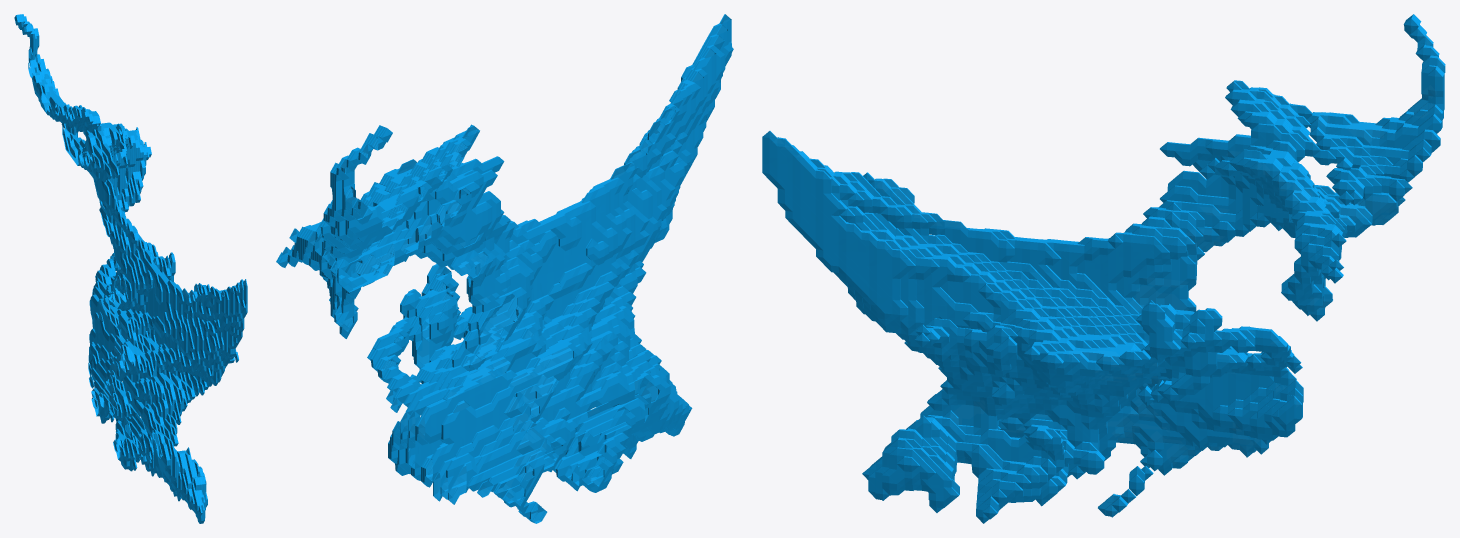
Rendered from SVV_BWM-DR02.gltf.
The picture shows the model from 3 angles, left to right: view 1: azimuth 30°, elevation 25°; view 2: azimuth 150°, elevation 25°; view 3: azimuth 270°, elevation 25°; orthographic projection. The views are drawn at different scales.
Parts seen in each view (by area): view 1: BWM-DR02; view 2: BWM-DR02; view 3: BWM-DR02.
Part boxes in pixels (bbox=[...]): BWM-DR02: bbox=[14, 14, 247, 523]; BWM-DR02: bbox=[276, 14, 733, 523]; BWM-DR02: bbox=[762, 14, 1445, 523].
Size of the model in its own units: 17631 by 46821 by 57288.
